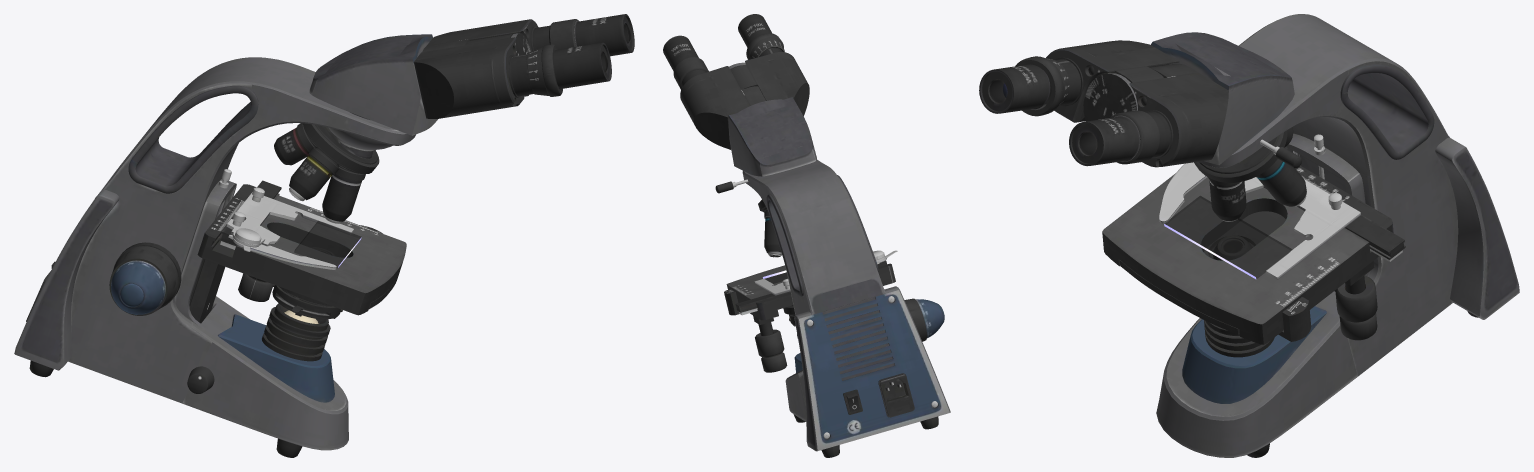
File: scope.glb
The picture shows the model from 3 angles, left to right: view 1: azimuth 30°, elevation 25°; view 2: azimuth 150°, elevation 25°; view 3: azimuth 270°, elevation 25°; orthographic projection. The views are drawn at different scales.
Visible parts, largest first — view 1: Circle_microscope_body_0, eye_glass_glass_0; view 2: Circle_microscope_body_0; view 3: Circle_microscope_body_0, eye_glass_glass_0.
Part boxes in pixels (x1,y1,x2,y2): Circle_microscope_body_0: (14,14,634,457); eye_glass_glass_0: (294,24,630,268); Circle_microscope_body_0: (663,14,950,457); Circle_microscope_body_0: (979,14,1519,457); eye_glass_glass_0: (989,79,1292,279).
Bounding box in the file's own units: 9.73 × 7.89 × 7.97.
Materials: 4 (4 with a texture image).
